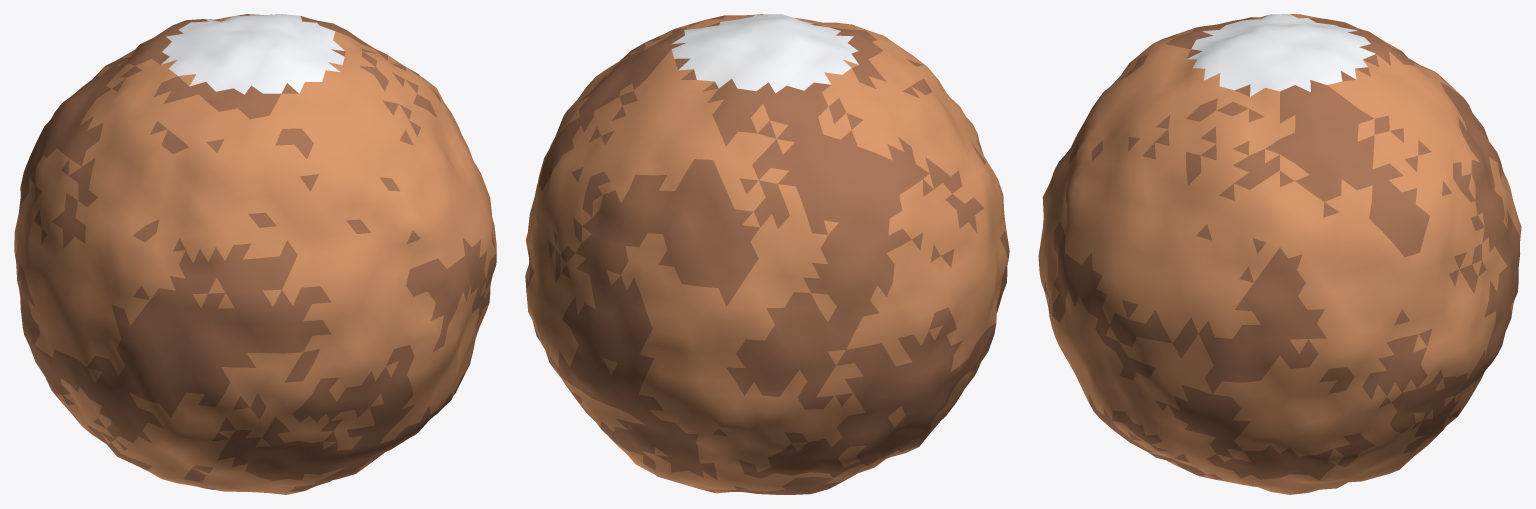
File: planet_Mars.fbx
3 views of the same model, side by side, from view 1: azimuth 30°, elevation 25°; view 2: azimuth 150°, elevation 25°; view 3: azimuth 270°, elevation 25° (orthographic).
Visible parts, largest first — view 1: planet_Mars; view 2: planet_Mars; view 3: planet_Mars.
Boxes of the visible parts, <box> form: planet_Mars: <box>14,14,496,494</box>; planet_Mars: <box>525,14,1009,494</box>; planet_Mars: <box>1038,14,1521,494</box>.
Bounding box in the file's own units: 1.01 × 1.01 × 1.01.
